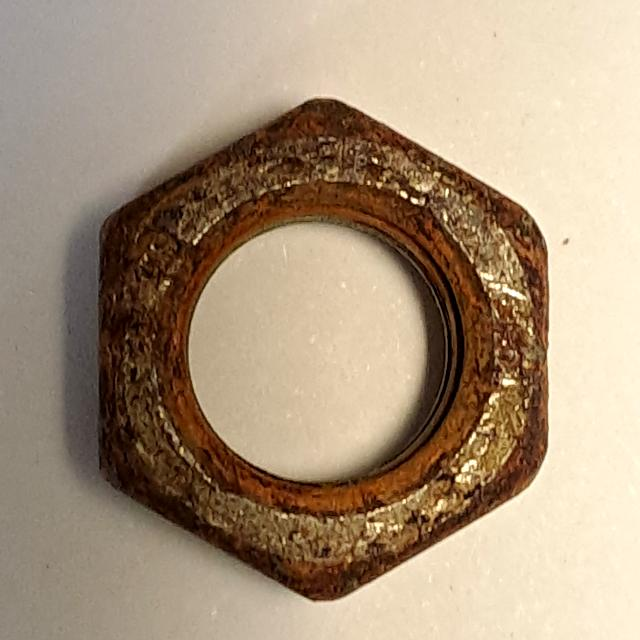Rust: (76, 79, 561, 614)
